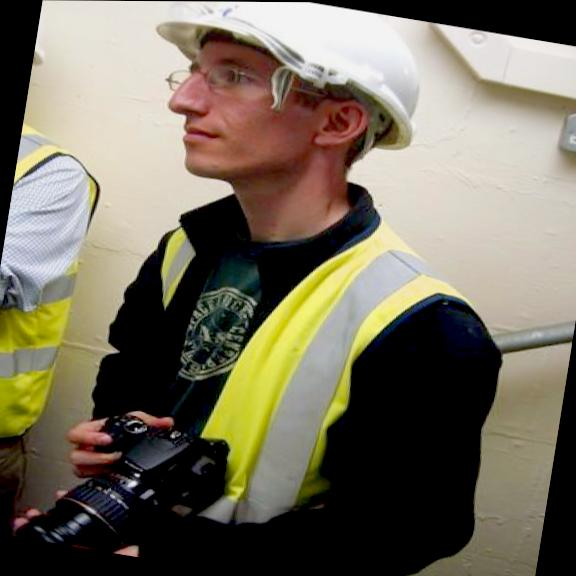safety_vest: (110, 168, 532, 576), (0, 115, 113, 459)
